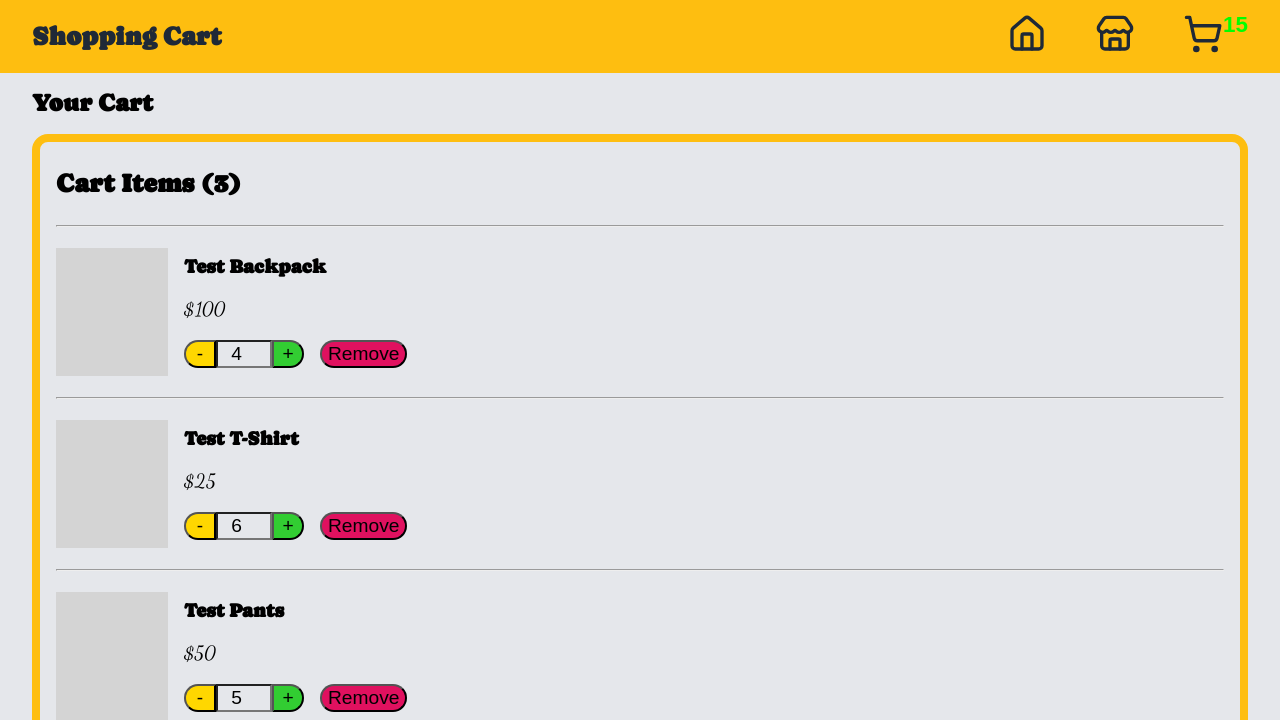
it: Testing Cart page › increaseOrders: should increment cart total when add(+) button is clicked
The image size is (1280, 720).
Click the button named "add test backpack to cart" at (288, 354), box [272,340,304,368]
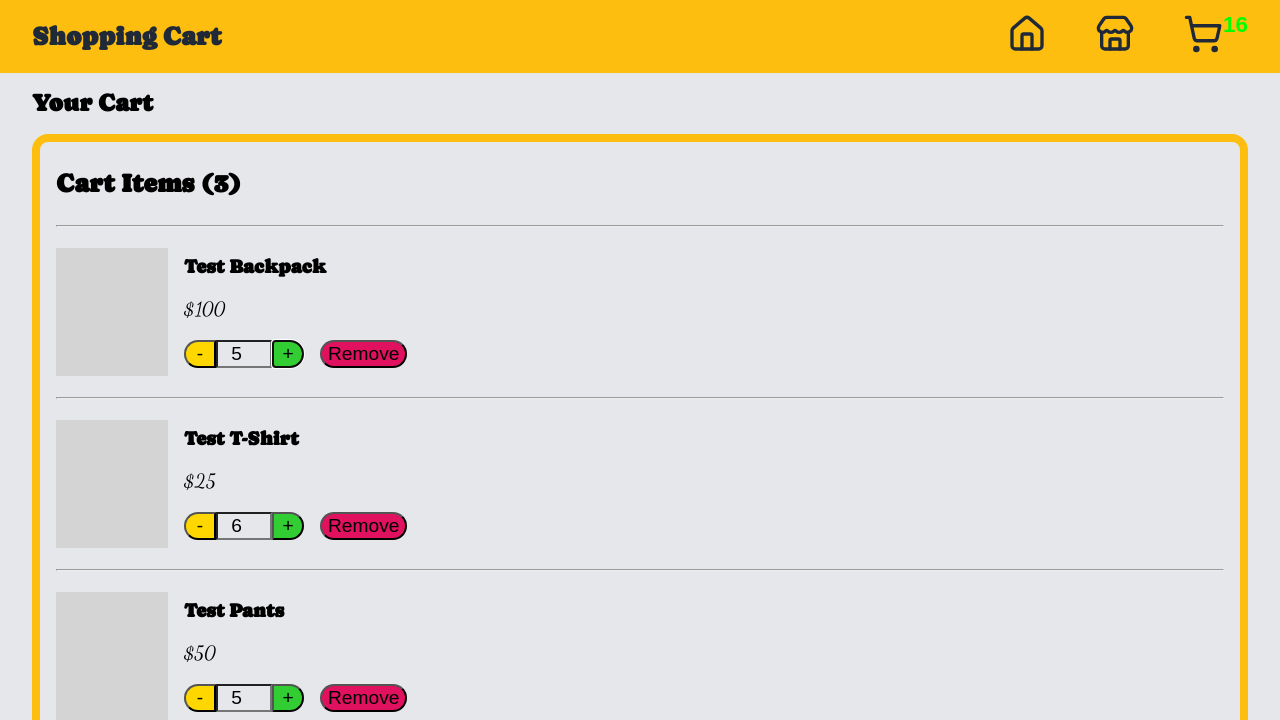
Expected: the message reads "16", [1223,11,1248,36]
